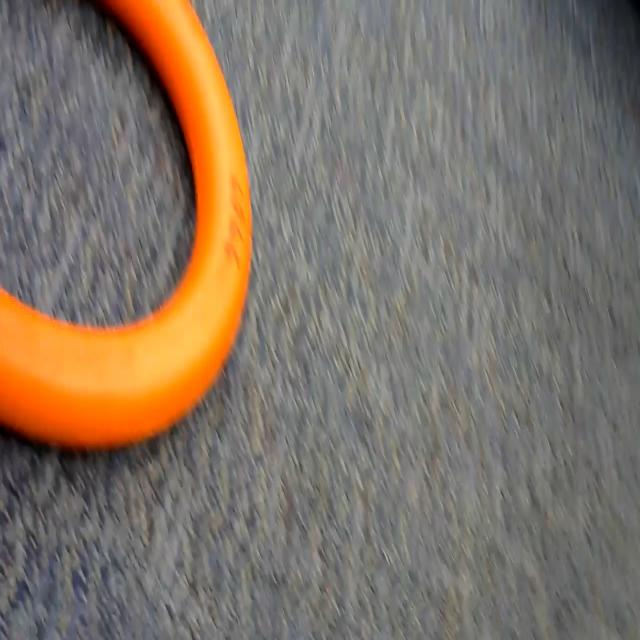note: (0, 0, 262, 464)
